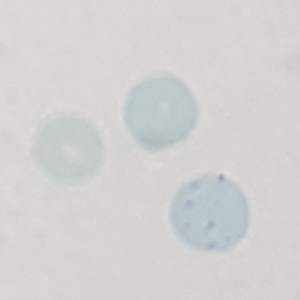erythrocyte: (121, 75, 200, 150), (31, 115, 103, 185)
punctate reticulocyte: (168, 172, 252, 254)
